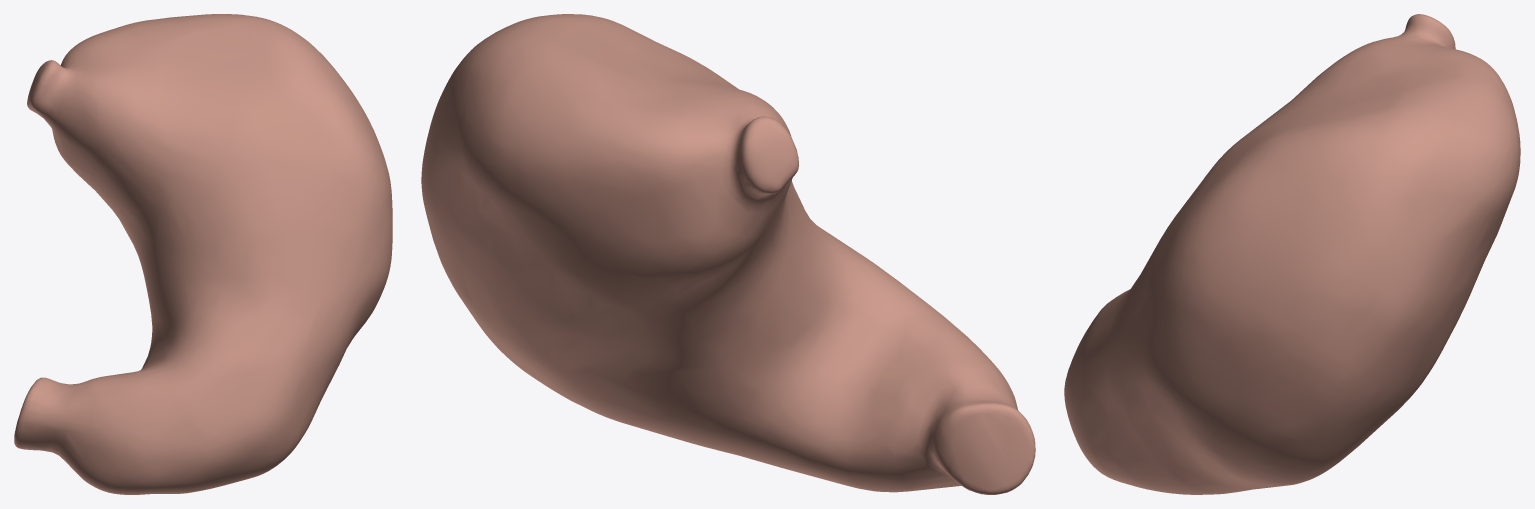
The model's file is stomach.glb.
3 views of the same model, side by side, from view 1: azimuth 30°, elevation 25°; view 2: azimuth 150°, elevation 25°; view 3: azimuth 270°, elevation 25° (orthographic). The views are drawn at different scales.
Parts seen in each view (by area): view 1: FMA7148; view 2: FMA7148; view 3: FMA7148.
Boxes of the visible parts, bbox=[...] form: FMA7148: bbox=[14, 14, 392, 494]; FMA7148: bbox=[421, 14, 1035, 494]; FMA7148: bbox=[1064, 14, 1520, 494].
Bounding box in the file's own units: 3.3 × 2.8 × 2.68.
